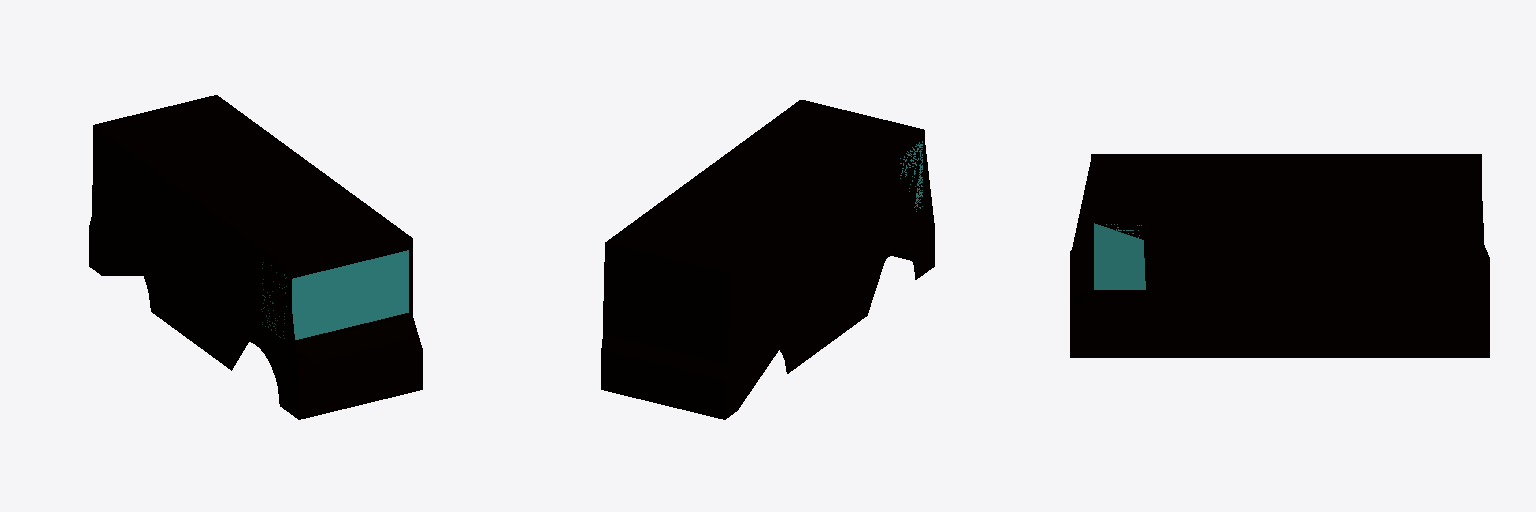
File: BoxTruck.obj
The picture shows the model from 3 angles: view 1: azimuth 30°, elevation 25°; view 2: azimuth 150°, elevation 25°; view 3: azimuth 270°, elevation 25°; orthographic projection.
Visible parts, largest first — view 1: Cube_Cube.001; view 2: Cube_Cube.001; view 3: Cube_Cube.001.
Part boxes in pixels (x1,y1,x2,y2): Cube_Cube.001: (89, 95, 422, 419); Cube_Cube.001: (601, 100, 934, 419); Cube_Cube.001: (1070, 154, 1489, 357).
Size of the model in its own units: 1.8 by 2.01 by 5.28.